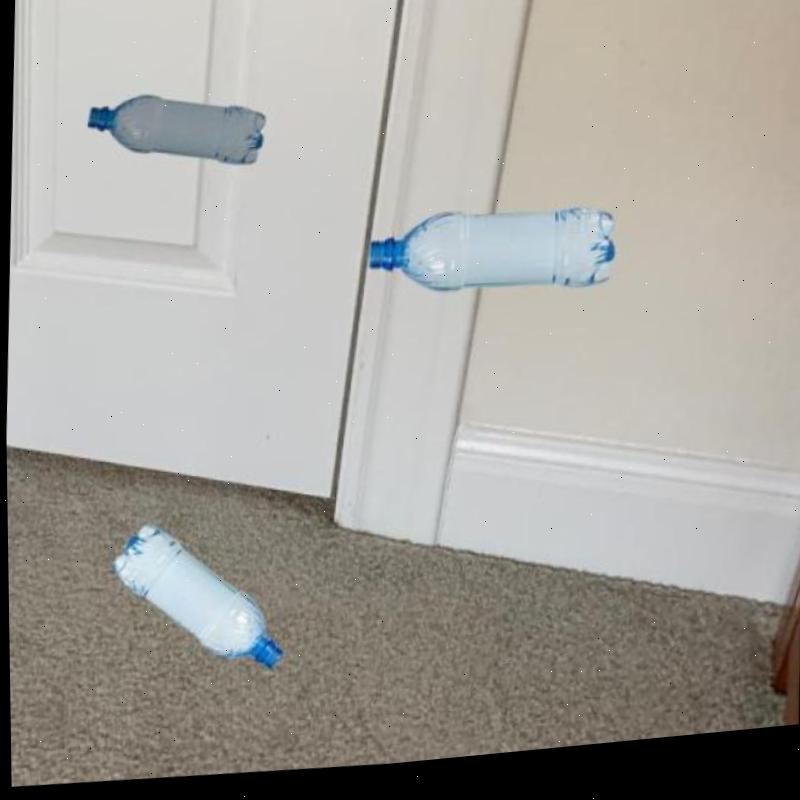botella: (105, 517, 287, 688), (367, 205, 615, 312), (83, 84, 268, 183)
